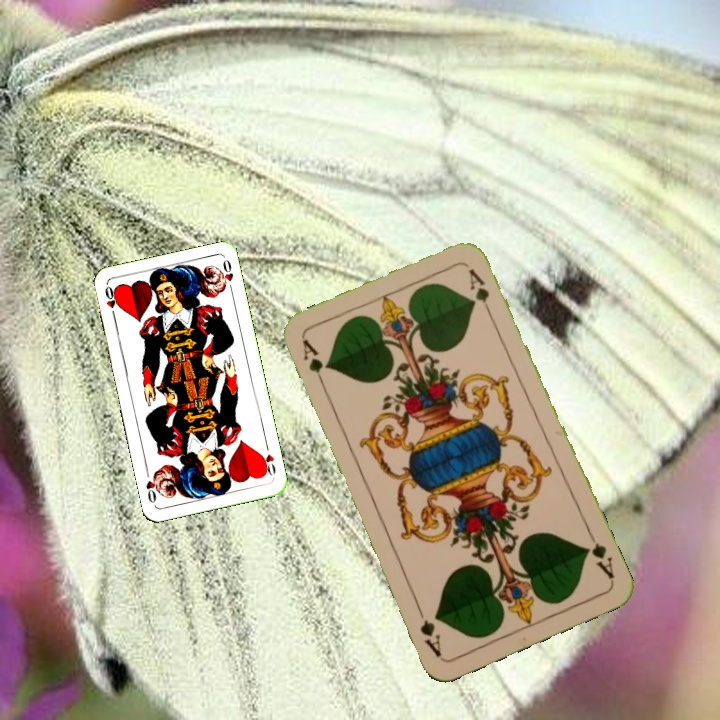GA: (580, 527, 617, 582), (298, 335, 329, 392)
HO: (257, 440, 278, 480), (101, 282, 120, 322)
